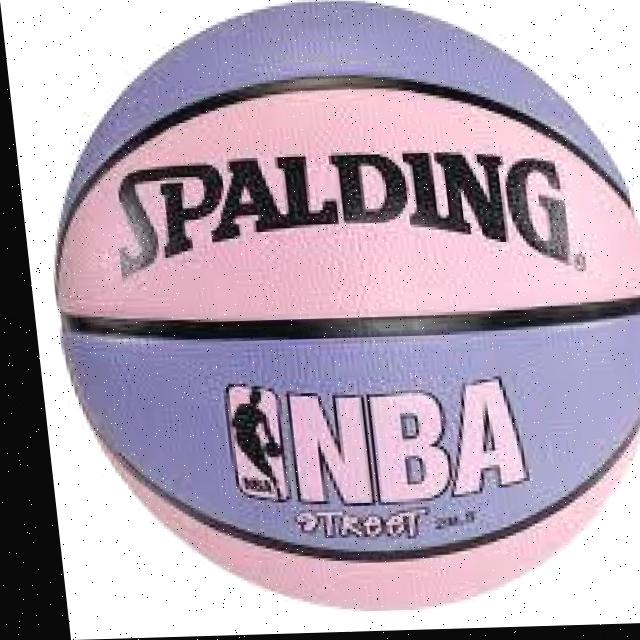Basketball: (13, 0, 640, 618)
